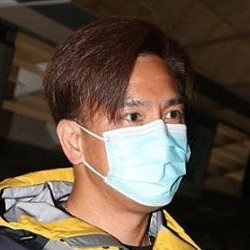mask: (68, 119, 192, 209)
